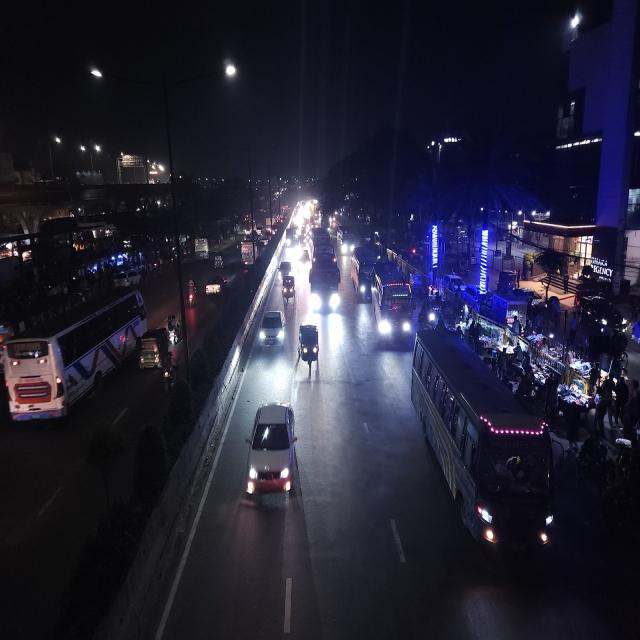bus: (409, 331, 558, 566), (1, 285, 146, 426), (370, 258, 414, 350), (306, 226, 342, 316), (350, 244, 376, 304), (193, 235, 210, 260)
car: (243, 398, 300, 505), (256, 305, 286, 352), (204, 270, 228, 302), (275, 258, 295, 281)
cng: (138, 324, 169, 374), (295, 320, 323, 373), (280, 274, 297, 306), (212, 252, 225, 272)
motorcycle: (162, 350, 178, 397), (167, 312, 181, 347), (186, 275, 198, 310)
truck: (241, 238, 255, 268)
